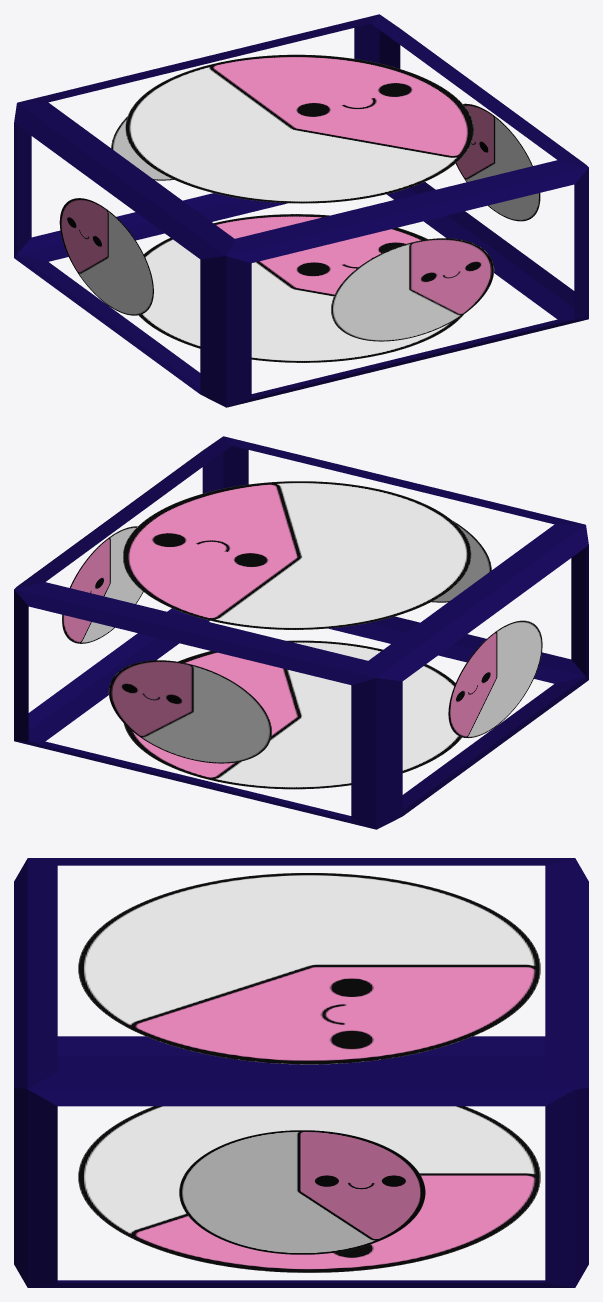
Rendered from Fracciones dos quintos.fbx.
3 renders of one model, top to bottom at view 1: azimuth 30°, elevation 25°; view 2: azimuth 150°, elevation 25°; view 3: azimuth 270°, elevation 25°, orthographic. The views are drawn at different scales.
Parts seen in each view (by area): view 1: 2/5; view 2: 2/5; view 3: 2/5.
Part boxes in pixels (box(x1,y1,x2,y2)): 2/5: box(14, 14, 588, 407); 2/5: box(14, 436, 588, 829); 2/5: box(14, 858, 588, 1287).
Size of the model in its own units: 213 by 84 by 210.
2 materials, 1 textured.
